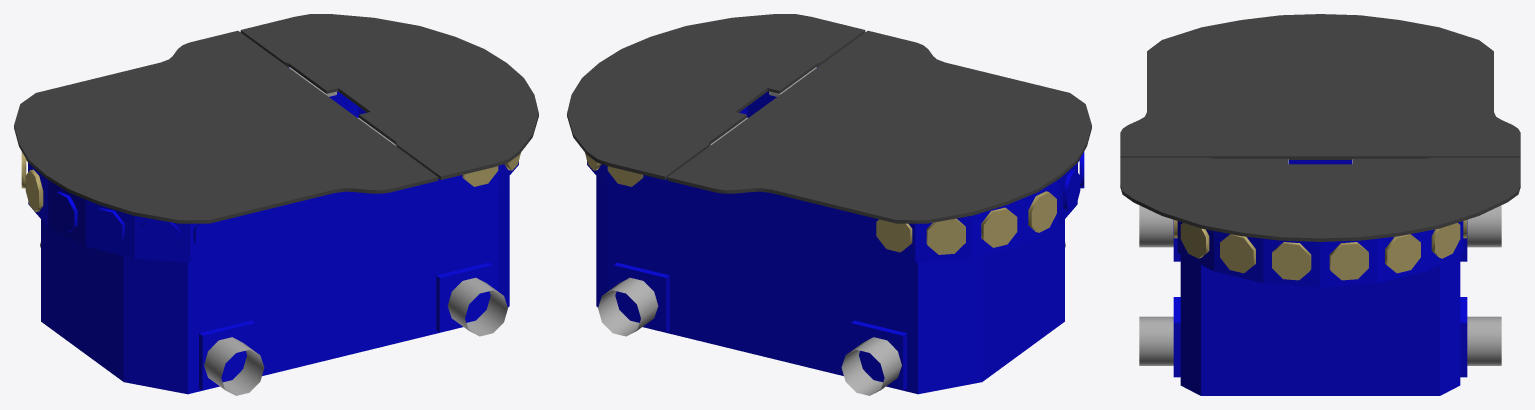
File: chassis_b.dae
The picture shows the model from 3 angles, left to right: view 1: azimuth 30°, elevation 25°; view 2: azimuth 150°, elevation 25°; view 3: azimuth 270°, elevation 25°; orthographic projection.
Parts seen in each view (by area): view 1: Cube_001, Plane_001, Cylinder_003, Plane_007, Plane_002, Plane_006, Plane_005, Cylinder_002, Cylinder; view 2: Cube_001, Plane_001, Cylinder_002, Plane_012, Plane_015, Plane_013, Plane_014, Cylinder_003, Cylinder_001; view 3: Cube_001, Plane_001, Cylinder, Cylinder_001, Plane_007, Plane_012, Plane_002, Plane_015, Plane_006, Plane_013.
Part boxes in pixels (x1,y1,x2,y2): Cube_001: [14, 14, 538, 223]; Plane_001: [28, 67, 518, 394]; Cylinder_003: [49, 191, 229, 254]; Plane_007: [447, 277, 507, 336]; Plane_002: [204, 337, 264, 395]; Plane_006: [436, 262, 492, 332]; Plane_005: [199, 320, 254, 390]; Cylinder_002: [21, 151, 43, 211]; Cylinder: [462, 153, 520, 186]; Cube_001: [567, 14, 1091, 223]; Plane_001: [587, 67, 1077, 394]; Cylinder_002: [876, 191, 1056, 254]; Plane_012: [598, 277, 658, 336]; Plane_015: [841, 337, 901, 395]; Plane_013: [613, 262, 669, 332]; Plane_014: [851, 320, 906, 390]; Cylinder_003: [1062, 151, 1084, 211]; Cylinder_001: [585, 153, 643, 186]; Cube_001: [1120, 14, 1520, 241]; Plane_001: [1177, 160, 1463, 395]; Cylinder: [1174, 220, 1311, 280]; Cylinder_001: [1329, 220, 1466, 280]; Plane_007: [1139, 316, 1173, 365]; Plane_012: [1467, 316, 1501, 365]; Plane_002: [1139, 205, 1173, 247]; Plane_015: [1467, 205, 1501, 247]; Plane_006: [1173, 297, 1180, 377]; Plane_013: [1460, 297, 1467, 377].
Bounding box in the file's own units: 0.5106 × 0.3831 × 0.1956.
